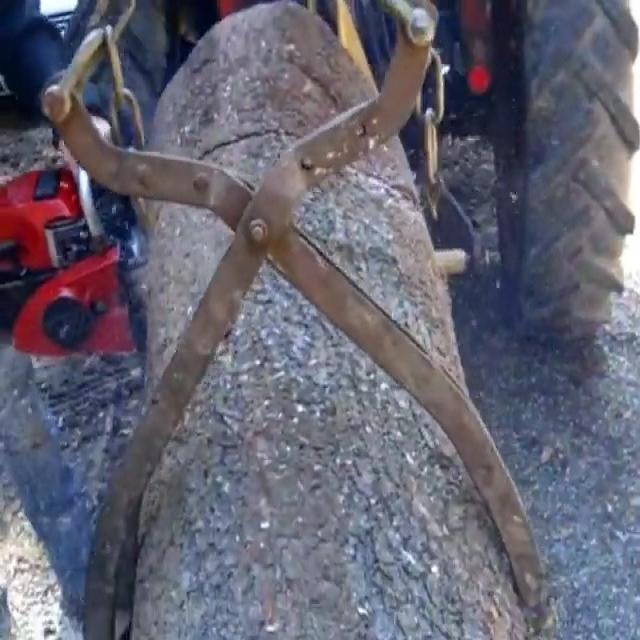Chainsaw: (0, 136, 158, 368)
